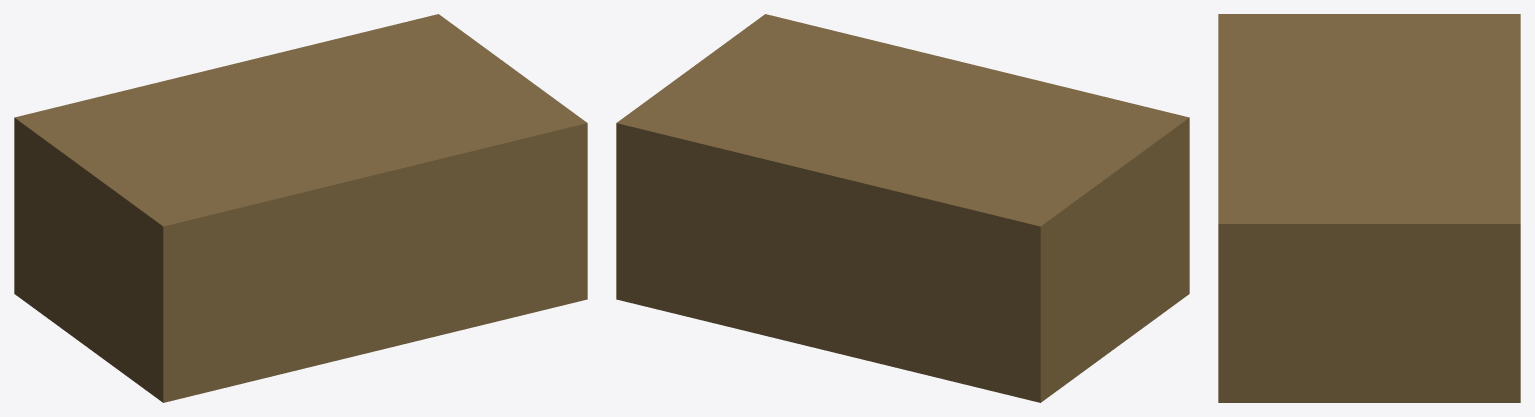
Rendered from Itr_Obj_Grandfatherclock2_Base_01.FBX.
The picture shows the model from 3 angles, left to right: view 1: azimuth 30°, elevation 25°; view 2: azimuth 150°, elevation 25°; view 3: azimuth 270°, elevation 25°; orthographic projection.
Visible parts, largest first — view 1: Itr_Obj_Grandfatherclock2_Base_01; view 2: Itr_Obj_Grandfatherclock2_Base_01; view 3: Itr_Obj_Grandfatherclock2_Base_01.
Boxes of the visible parts, x1=… form: Itr_Obj_Grandfatherclock2_Base_01: x1=14, y1=14, x2=587, y2=402; Itr_Obj_Grandfatherclock2_Base_01: x1=616, y1=14, x2=1189, y2=402; Itr_Obj_Grandfatherclock2_Base_01: x1=1218, y1=14, x2=1520, y2=402.
Bounding box in the file's own units: 23.06 × 9.16 × 14.03.
